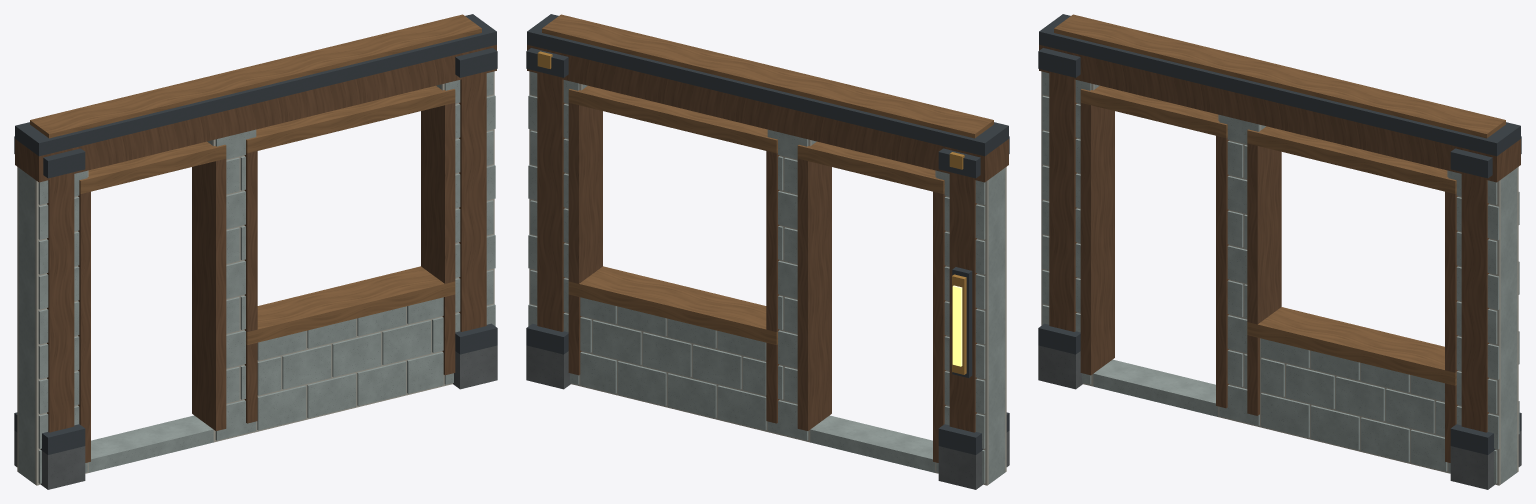
The picture shows the model from 3 angles, left to right: view 1: azimuth 30°, elevation 25°; view 2: azimuth 150°, elevation 25°; view 3: azimuth 330°, elevation 25°; orthographic projection.
Parts seen in each view (by area): view 1: 旧楼分段入口及窗洞墙; view 2: 旧楼分段入口及窗洞墙; view 3: 旧楼分段入口及窗洞墙.
Boxes of the visible parts, x1=… form: 旧楼分段入口及窗洞墙: x1=14, y1=14, x2=497, y2=489; 旧楼分段入口及窗洞墙: x1=526, y1=14, x2=1009, y2=489; 旧楼分段入口及窗洞墙: x1=1038, y1=14, x2=1521, y2=489.
Size of the model in its own units: 4.4 by 3.2 by 0.6.
8 materials, 8 textured.
